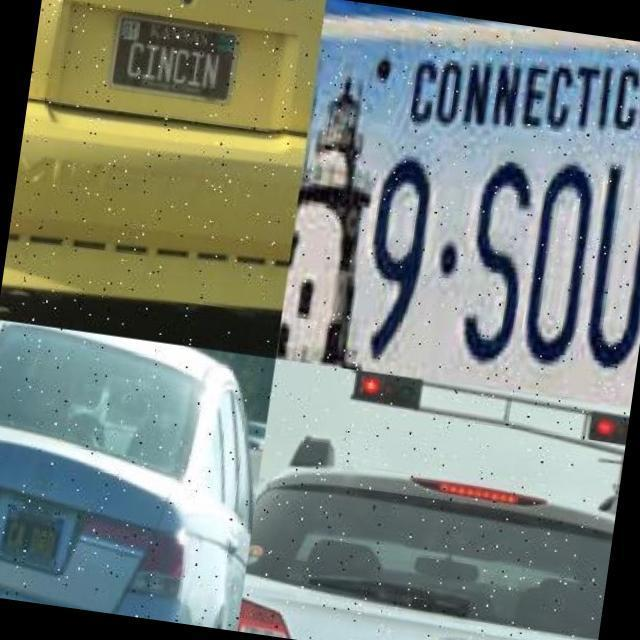License Plate: (275, 48, 640, 407), (97, 17, 231, 112), (0, 498, 66, 582)
